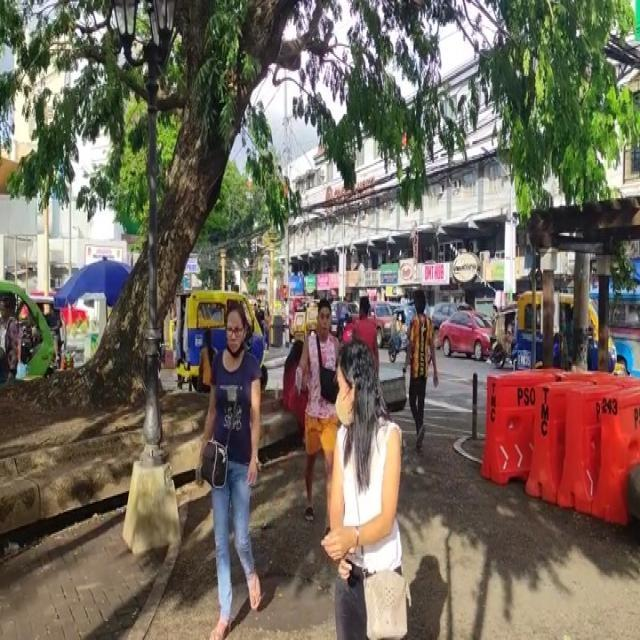hairnet: (226, 312, 246, 359)
